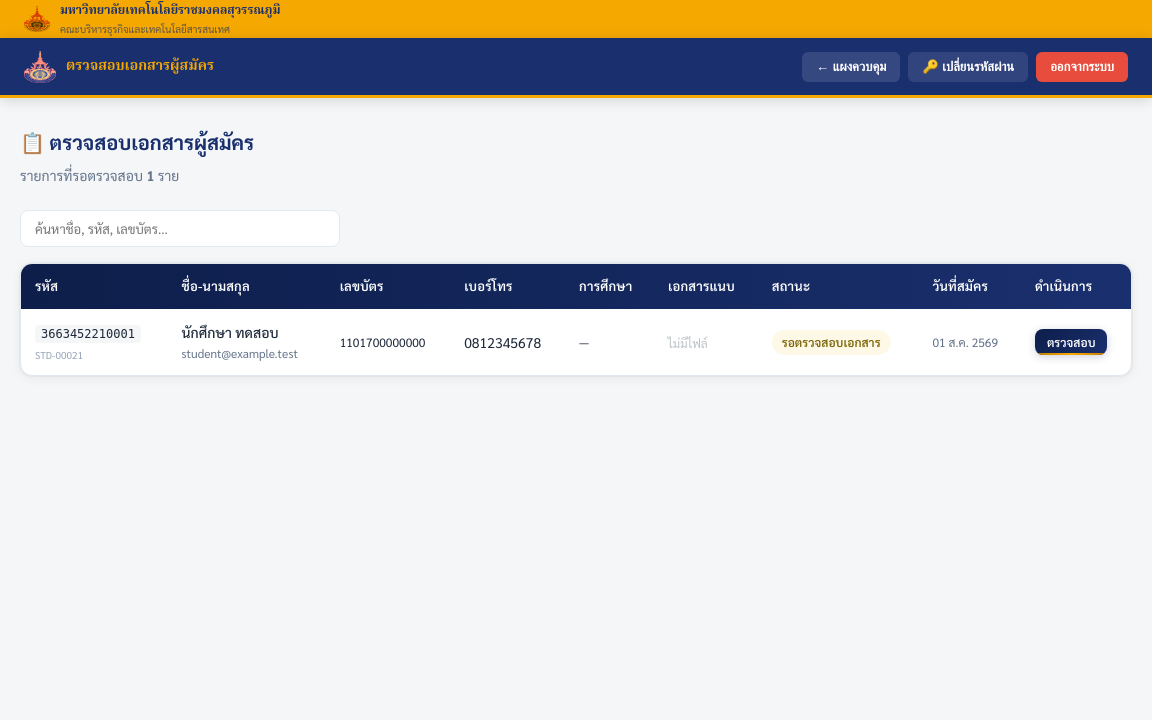
staff approval removes the student from the pending document list
The image size is (1152, 720).
Expected: the text "นักศึกษา ทดสอบ" is shown, [182, 324, 278, 342]
Click the button "ตรวจสอบ" at [1071, 342], box [1035, 329, 1108, 355]
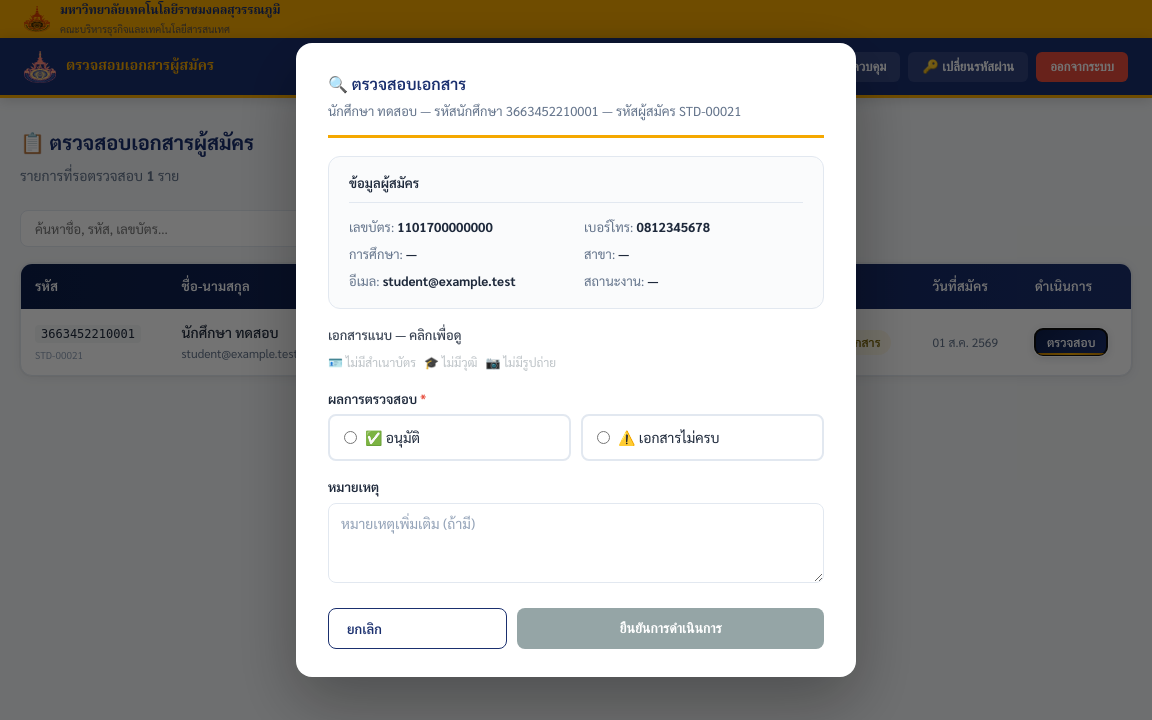
Click the radio button labelled "✅ อนุมัติ" at [350, 438], box [344, 431, 357, 444]
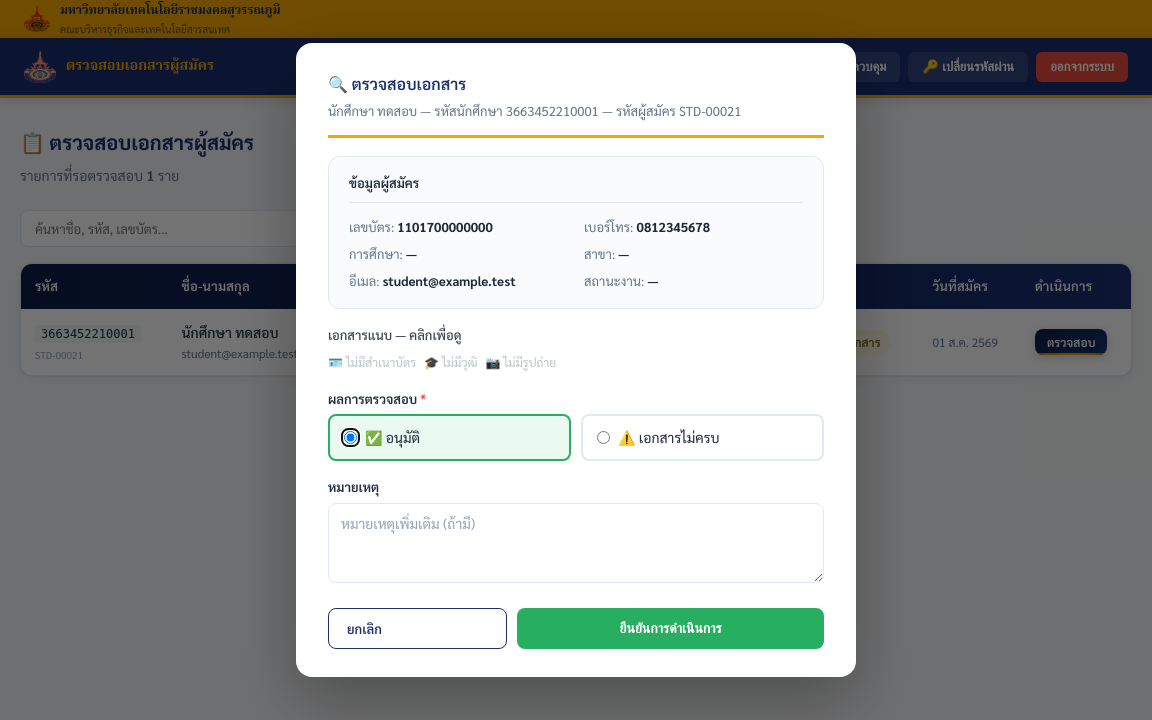
Click the button "ยืนยันการดำเนินการ" at [671, 628], box [517, 608, 824, 649]
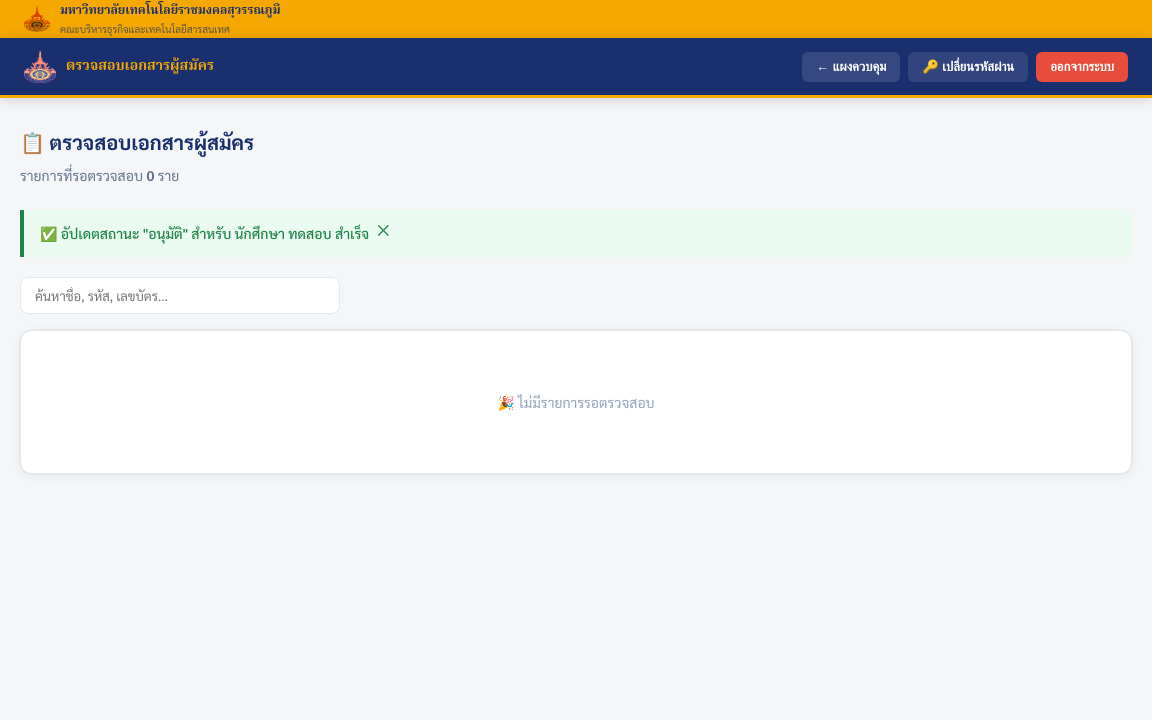
Expected: the text "🎉 ไม่มีรายการรอตรวจสอบ" is shown, [497, 393, 655, 411]
